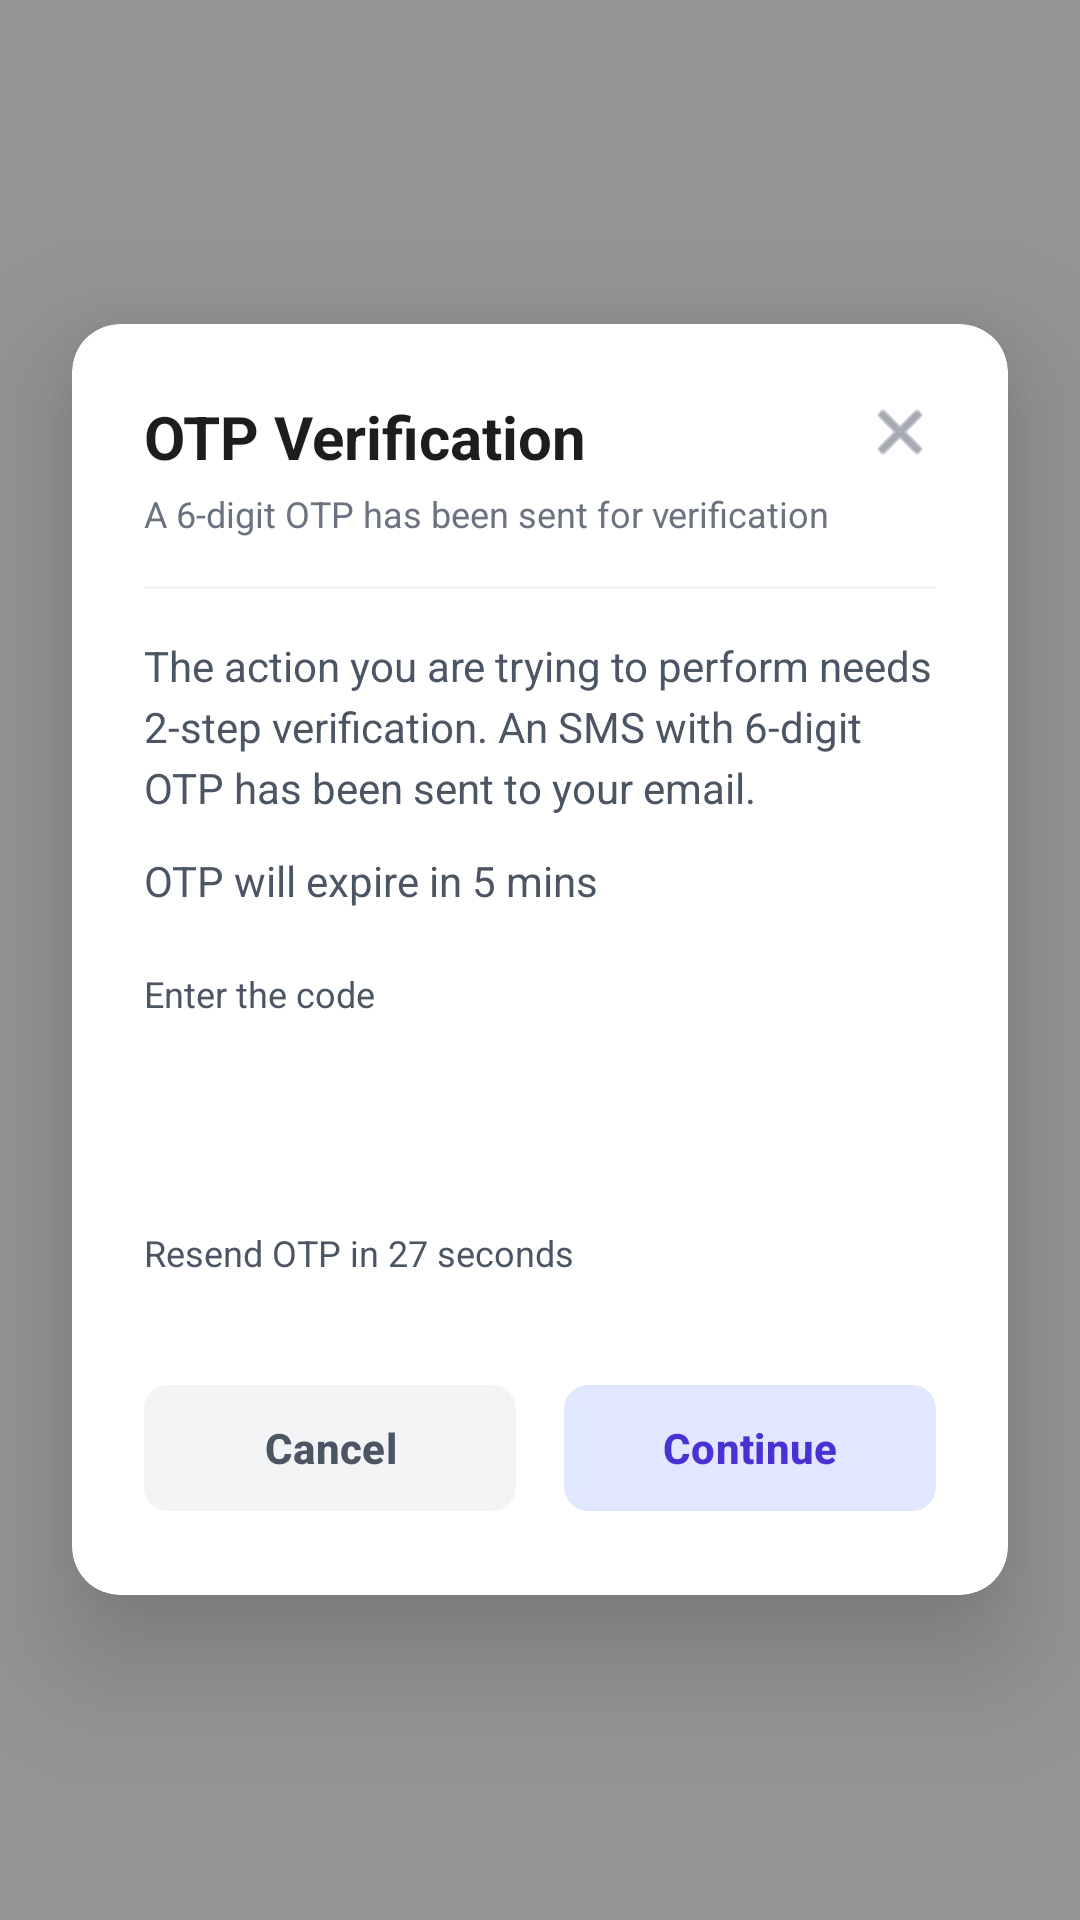

Point at icon controls on the screen. Image size 1080x1920, points as point (x, y).
close clear cancel: point (900, 432)
